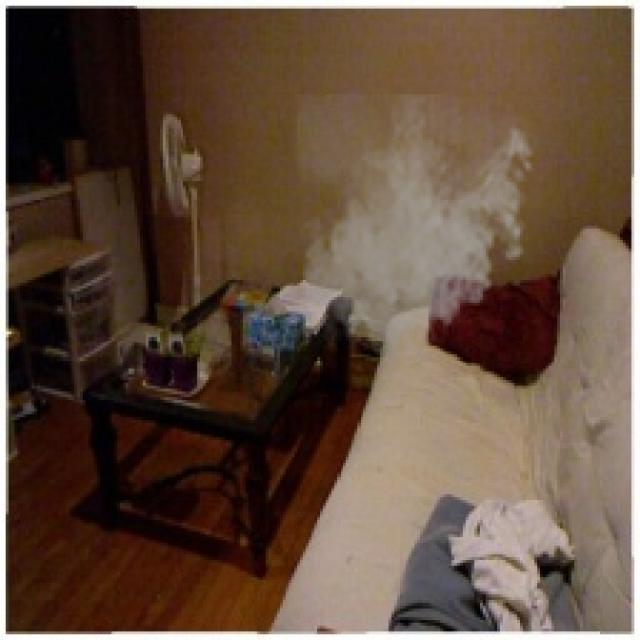Smoke: (294, 94, 540, 363)
